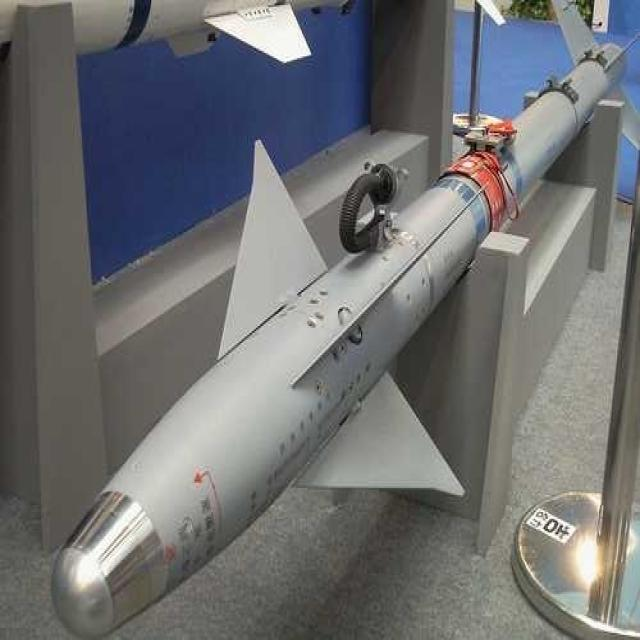missile: (49, 0, 627, 633)
